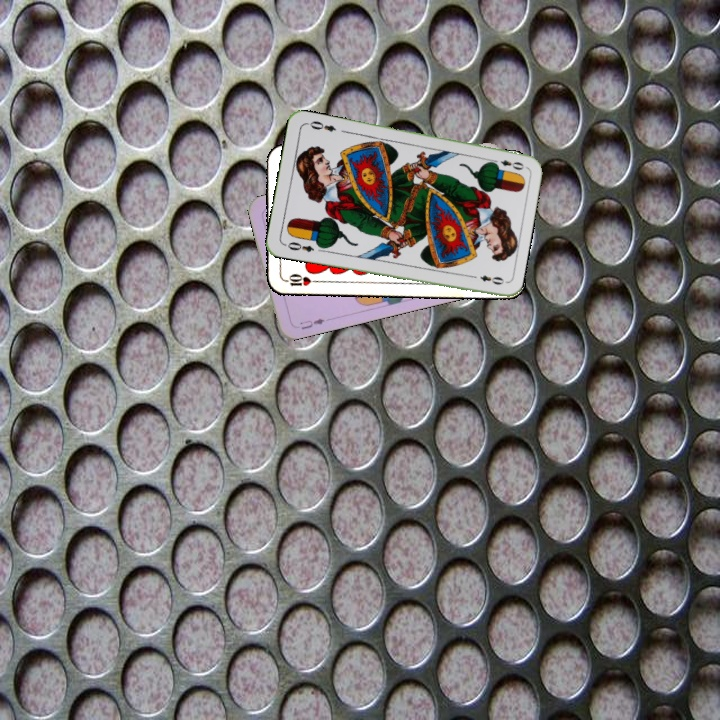EO: (487, 155, 527, 172), (280, 238, 316, 254)
EU: (295, 314, 327, 332)
H10: (280, 270, 320, 289)
